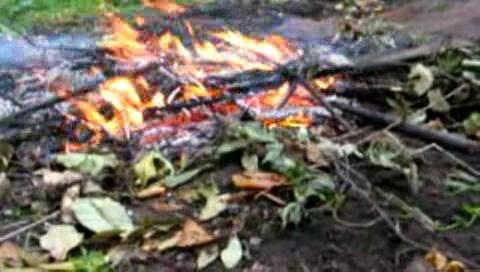fire: (78, 22, 338, 133)
